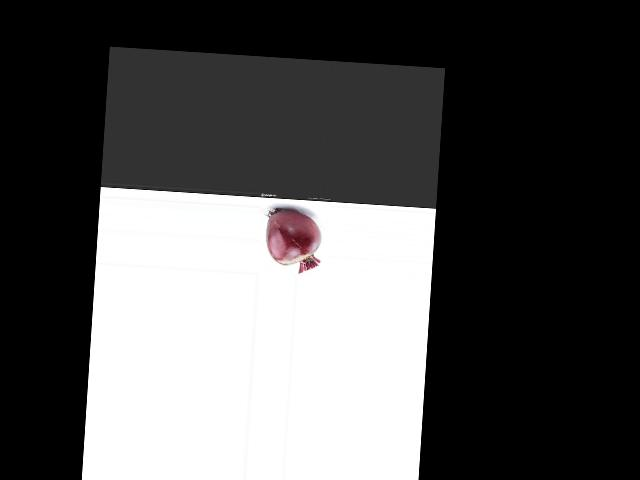beet: (264, 208, 323, 274)
